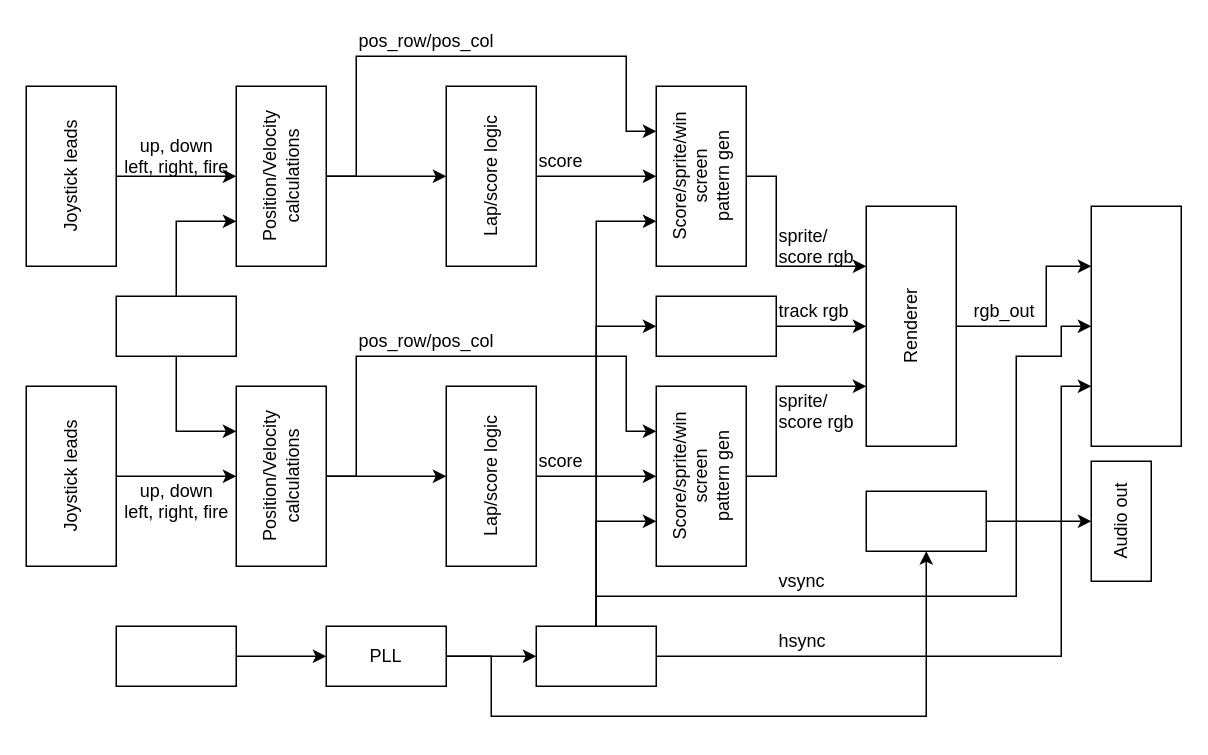
Image size: 1208x755. Some labels were removed from this diagram. Here are the shapes that lost their labels. From the top down, the centre of each, then its label:
point (175, 325): LSOSC
point (715, 325): Track pattern gen
point (1135, 325): VGA output
point (925, 520): Song player
point (175, 655): HSOSC
point (595, 655): VGA driver
